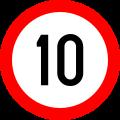Speed Limit -10-: (29, 31, 90, 90)
